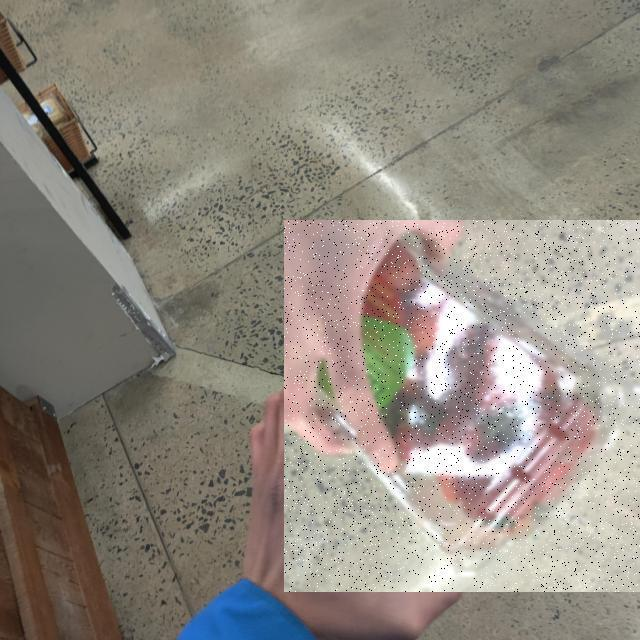Straw Berry: (284, 220, 640, 592)
